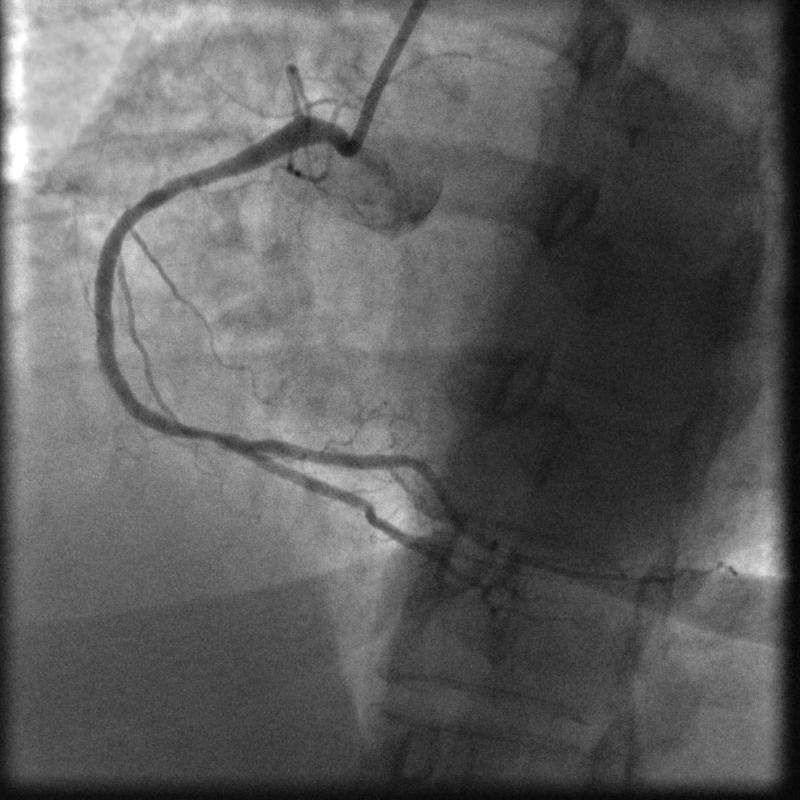Stenosis: (185, 415, 225, 455)
